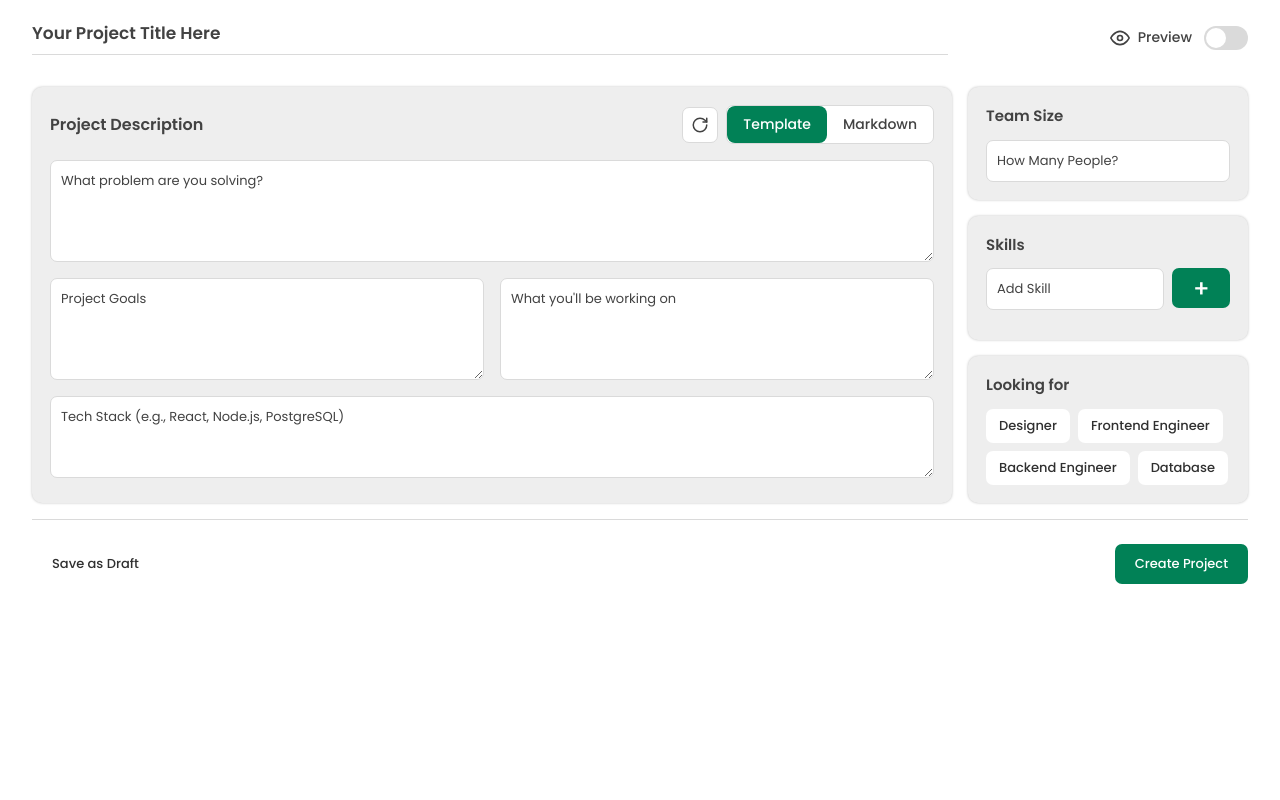
Test: CreateProject — its two confirmations › asks before clearing the description, and Clear empties it
In the text box with placeholder "What problem are you solving?": (492, 211) [50, 160, 934, 262], type "Bikes are hard to find"
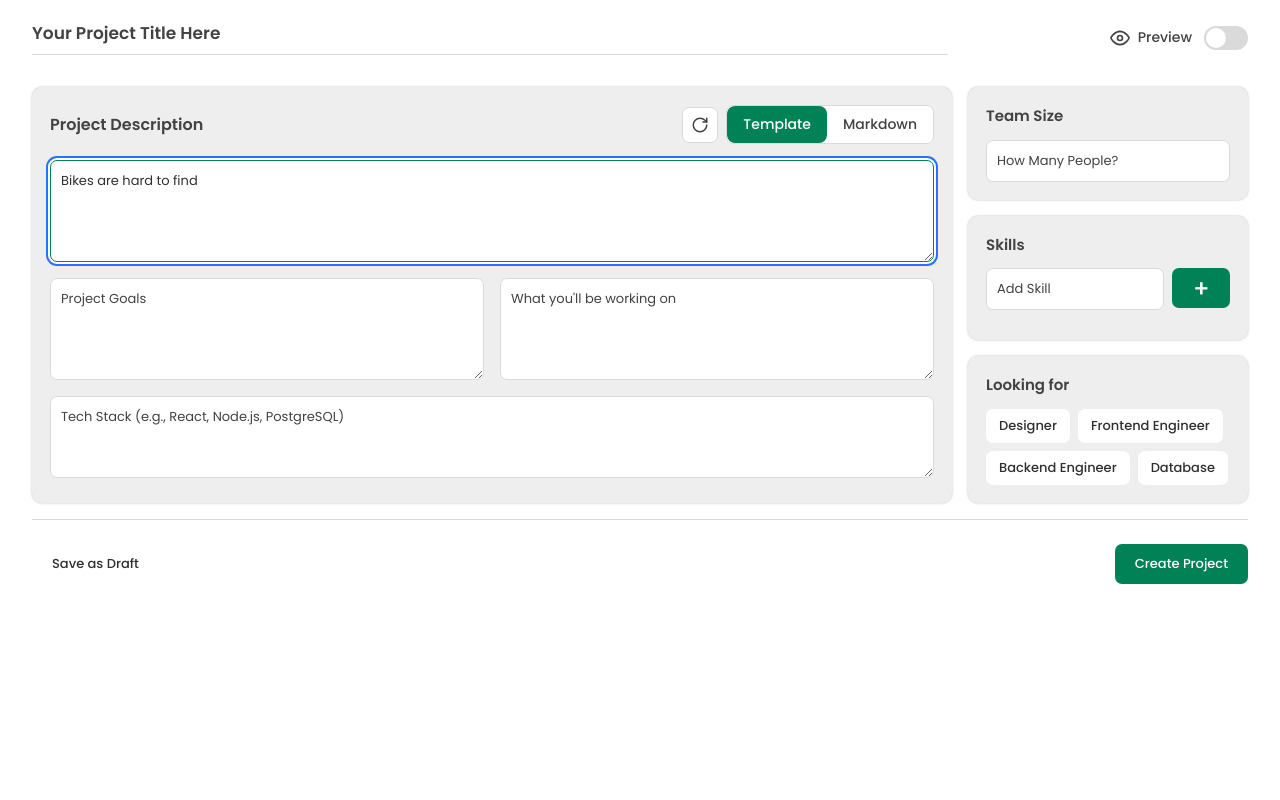
Click the button named "Clear project description": (700, 124) [682, 106, 718, 142]
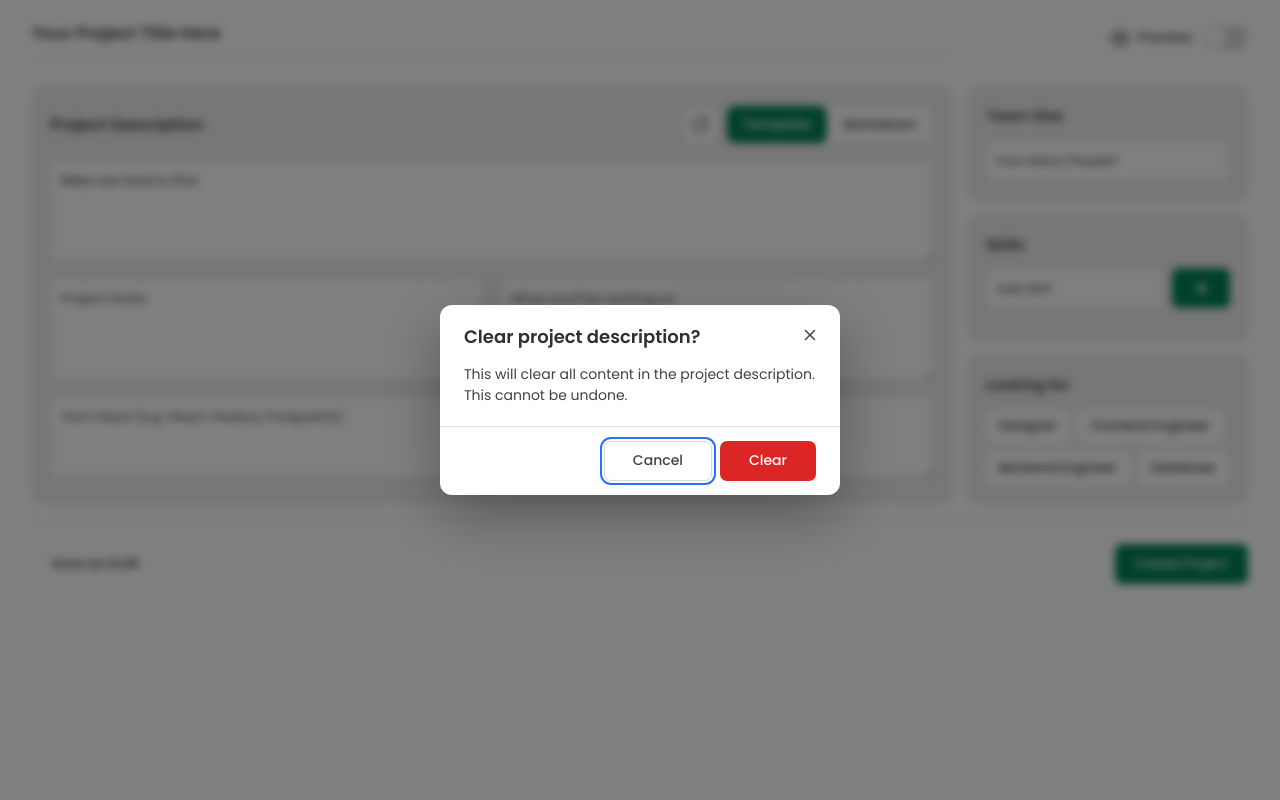
Press Escape
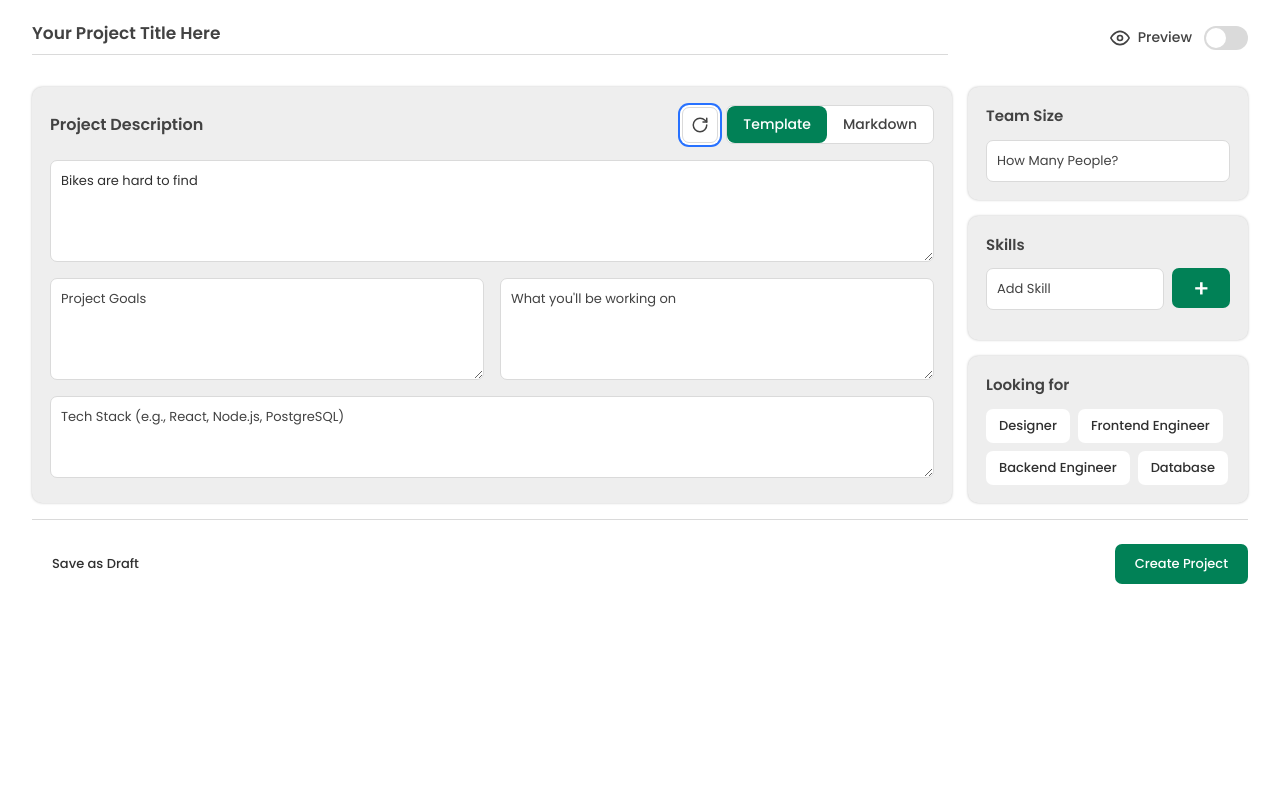
Click the button named "Clear project description": (700, 124) [682, 106, 718, 142]
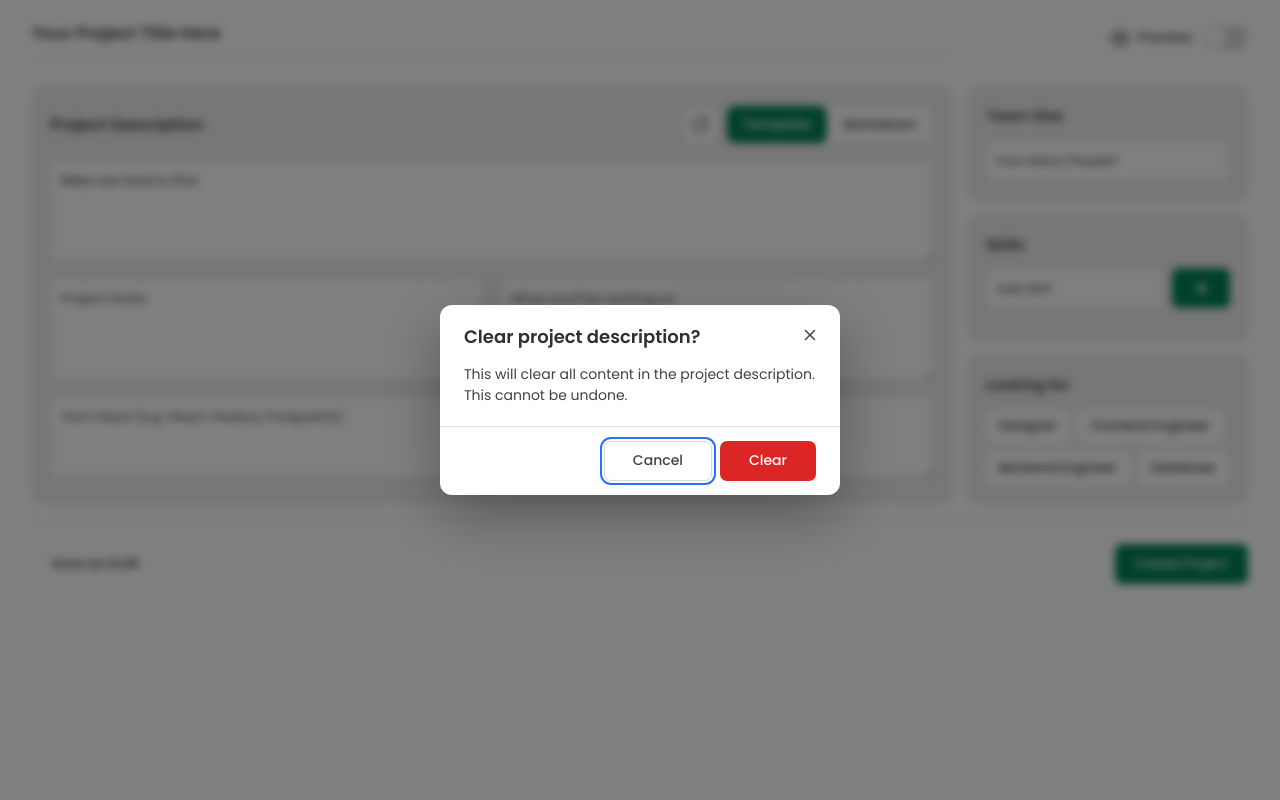
Click the button "Clear": (768, 461) [720, 441, 816, 481]
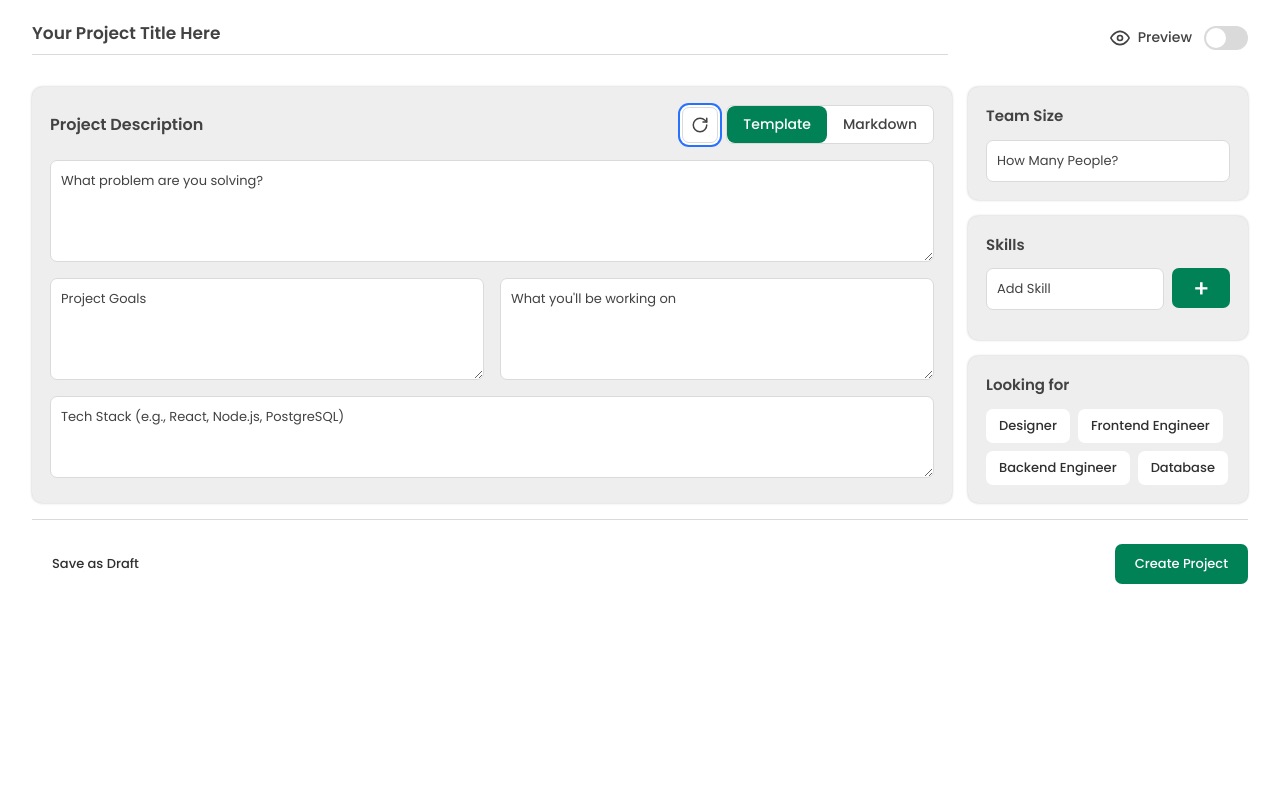
Expected: the text box with placeholder "What problem are you solving?" is empty, [50, 160, 934, 262]
